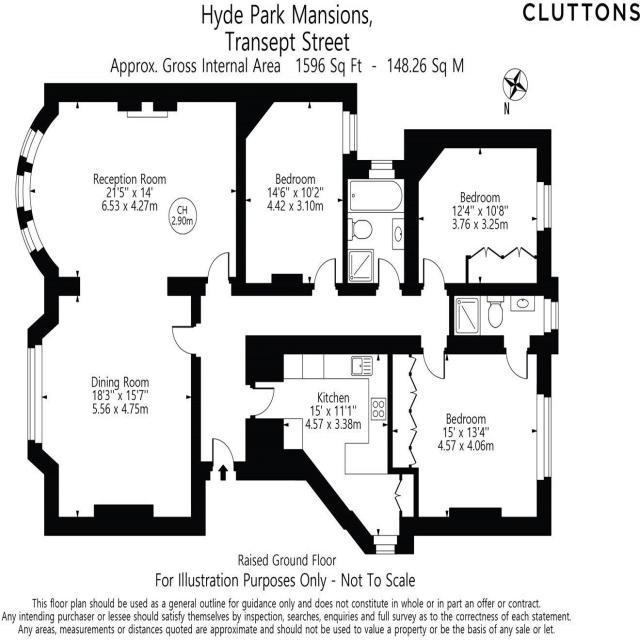DOOR: (211, 435, 236, 475), (421, 344, 447, 381), (170, 324, 199, 357), (248, 386, 277, 418), (206, 250, 230, 287), (377, 256, 401, 291), (313, 257, 337, 291), (422, 257, 446, 291), (505, 347, 529, 380)
ROOM: (13, 81, 248, 537), (244, 333, 420, 557), (387, 331, 552, 537), (235, 82, 358, 297), (401, 128, 552, 297)
WINDOW: (26, 345, 43, 445), (536, 394, 552, 481), (18, 125, 45, 167), (19, 218, 44, 256), (536, 181, 552, 232), (15, 170, 33, 213), (342, 110, 358, 155), (372, 533, 398, 556), (543, 298, 559, 335), (368, 159, 396, 180)
